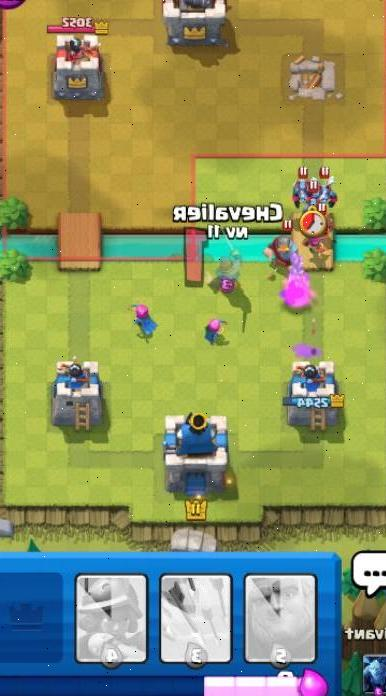enemy_knight: (259, 228, 301, 275)
enemy_minions: (313, 177, 340, 206), (289, 173, 314, 204)
player_archers: (126, 297, 160, 337), (199, 311, 230, 346)
